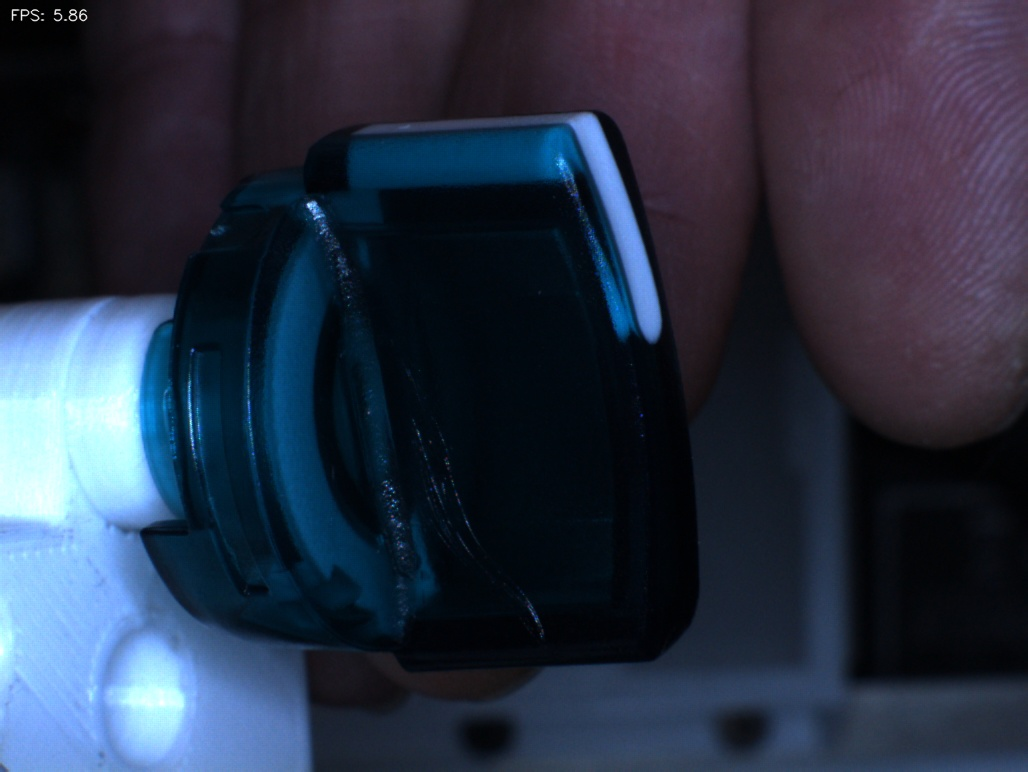Givrage: (394, 348, 559, 646)
